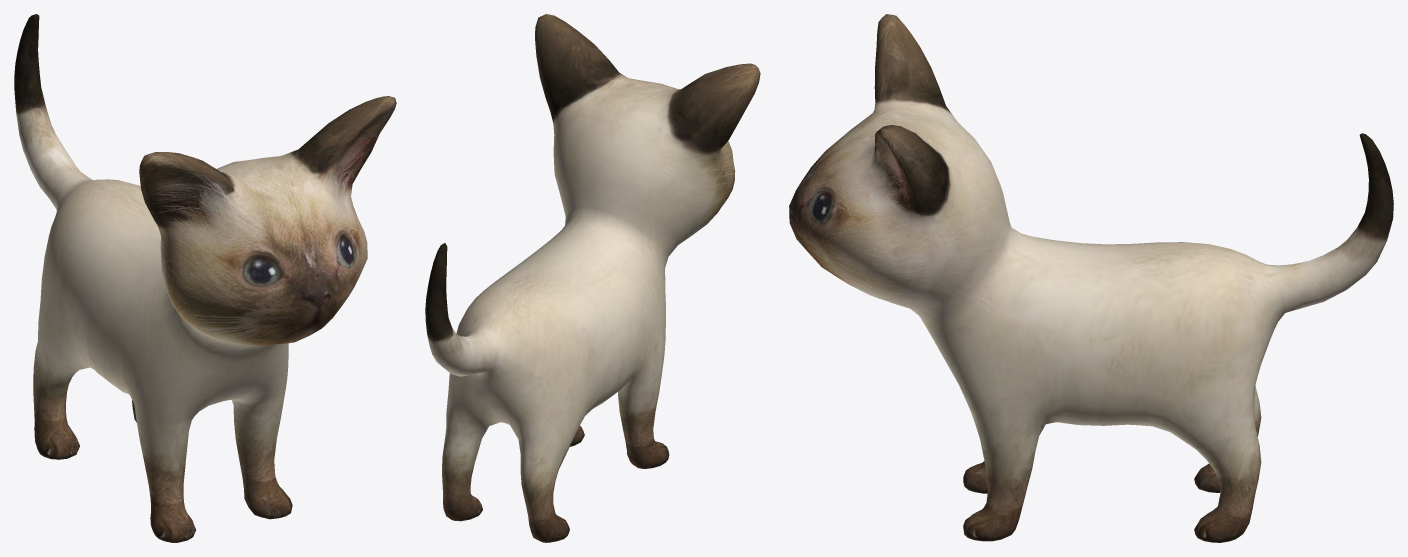
Rendered from babuleh.fbx.
The picture shows the model from 3 angles, left to right: view 1: azimuth 30°, elevation 25°; view 2: azimuth 150°, elevation 25°; view 3: azimuth 270°, elevation 25°; orthographic projection. The views are drawn at different scales.
Visible parts, largest first — view 1: babuleh; view 2: babuleh; view 3: babuleh.
Part boxes in pixels (left/top/right/bottom): babuleh: left=14, top=14, right=396, bottom=542; babuleh: left=425, top=14, right=760, bottom=542; babuleh: left=789, top=14, right=1393, bottom=542.
Size of the model in its own units: 169 by 278 by 347.
Materials: 1 (1 with a texture image).
